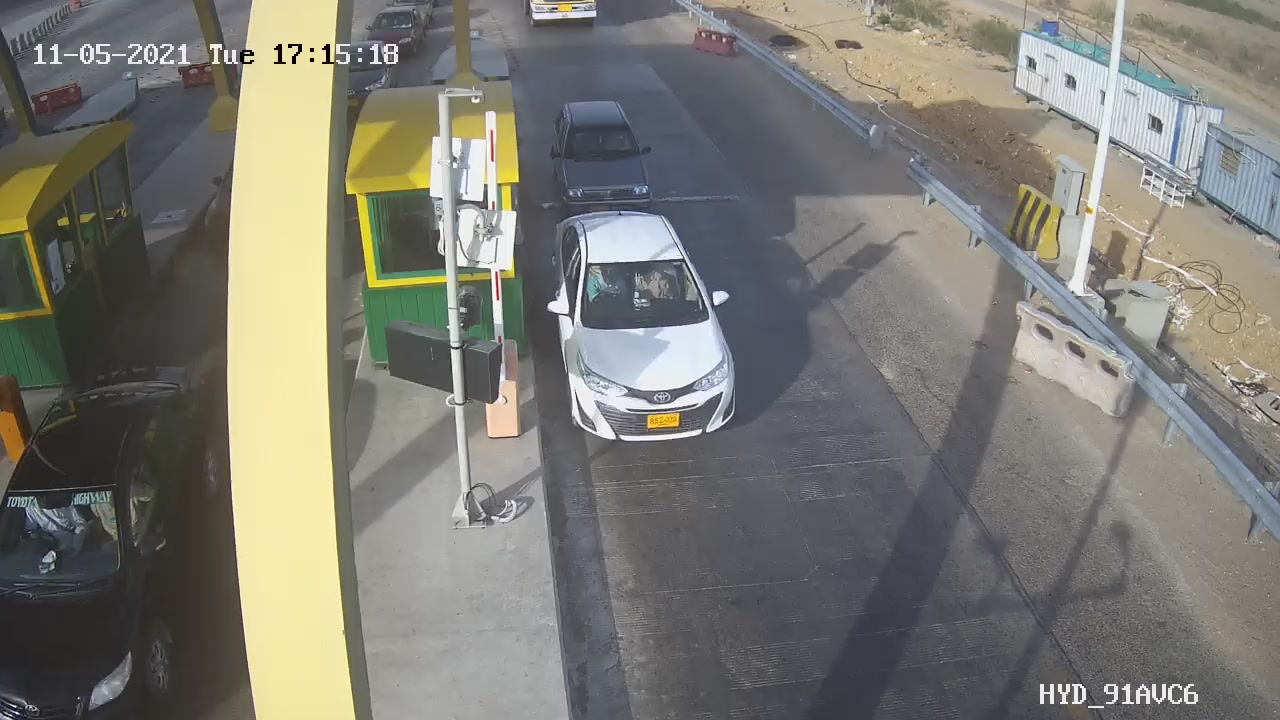F1: (530, 194, 755, 453), (535, 86, 678, 242)
